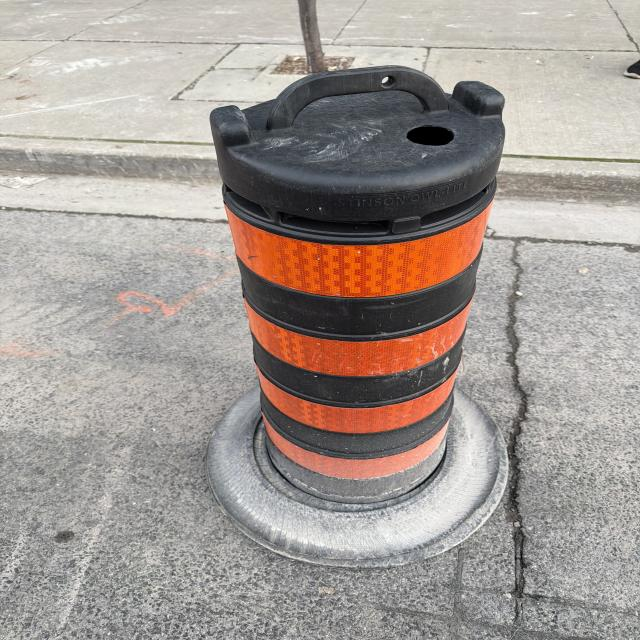Teraffic Barrel: (209, 67, 506, 563)
